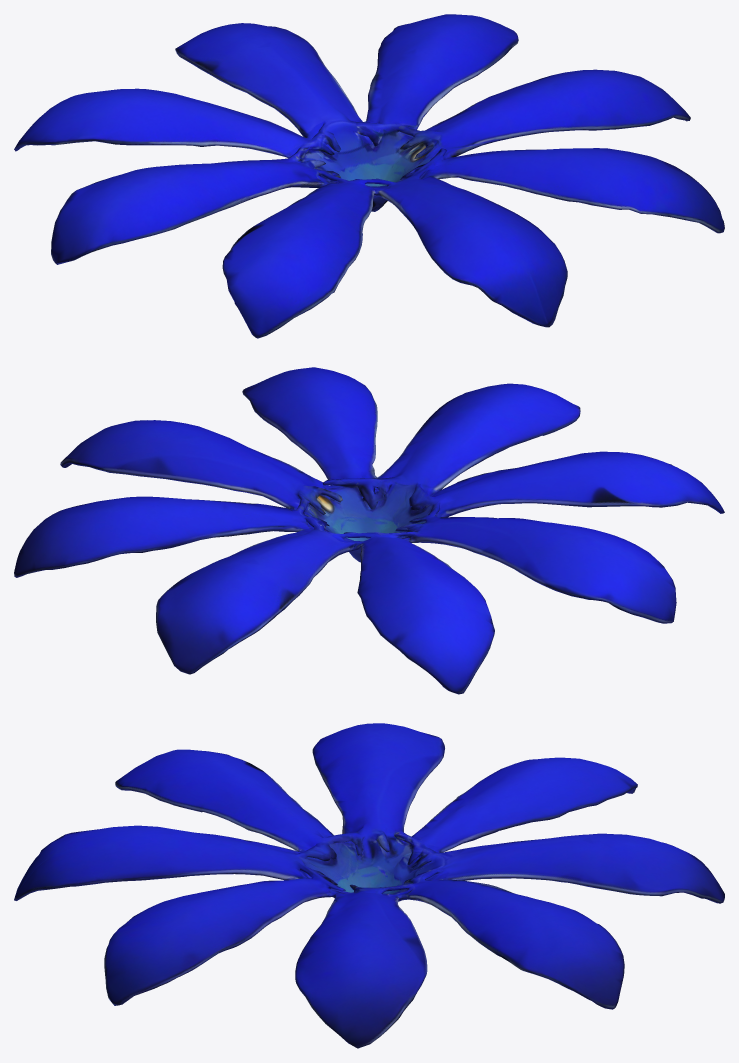
File: Blue_Blossom_1101181354.obj
3 renders of one model, top to bottom at view 1: azimuth 30°, elevation 25°; view 2: azimuth 150°, elevation 25°; view 3: azimuth 270°, elevation 25°, orthographic.
Visible parts, largest first — view 1: Mesh_0; view 2: Mesh_0; view 3: Mesh_0.
Boxes of the visible parts, box(x1,y1,x2,y2) form: Mesh_0: box(14, 14, 724, 338); Mesh_0: box(14, 367, 724, 694); Mesh_0: box(14, 723, 724, 1048).
Size of the model in its own units: 2 by 0.2532 by 2.01.
